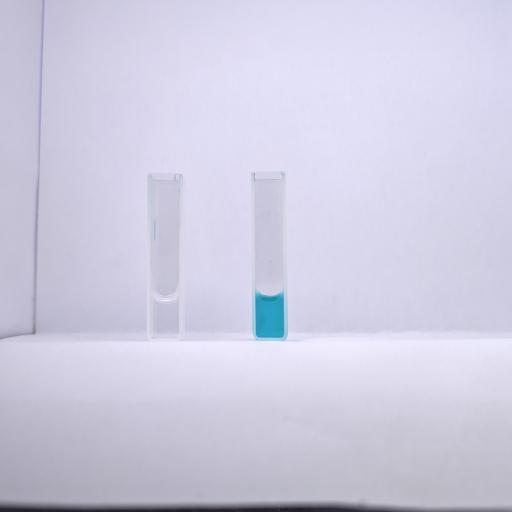cuvette: (250, 169, 289, 341), (146, 172, 184, 343)
liquid: (255, 293, 284, 337), (152, 292, 178, 338)
